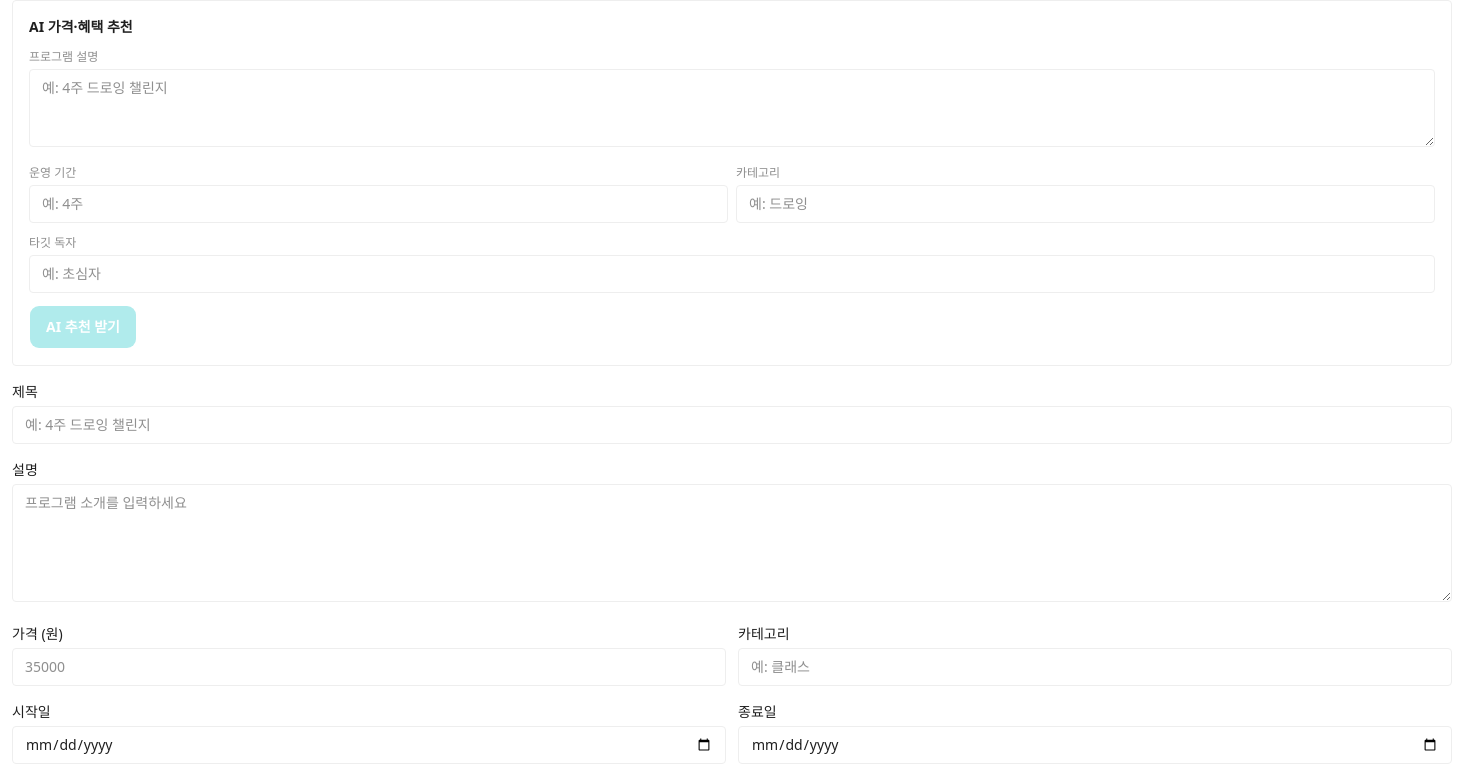
Test: NewProgramClient (SPEC-010 AC-002) › injects suggested price and description block on apply
The width and height of the screenshot is (1464, 781).
AI 추천 요청
In the text box labelled "프로그램 설명": (732, 108) top-left (29, 69), bottom-right (1435, 147), type "4주 드로잉 챌린지"
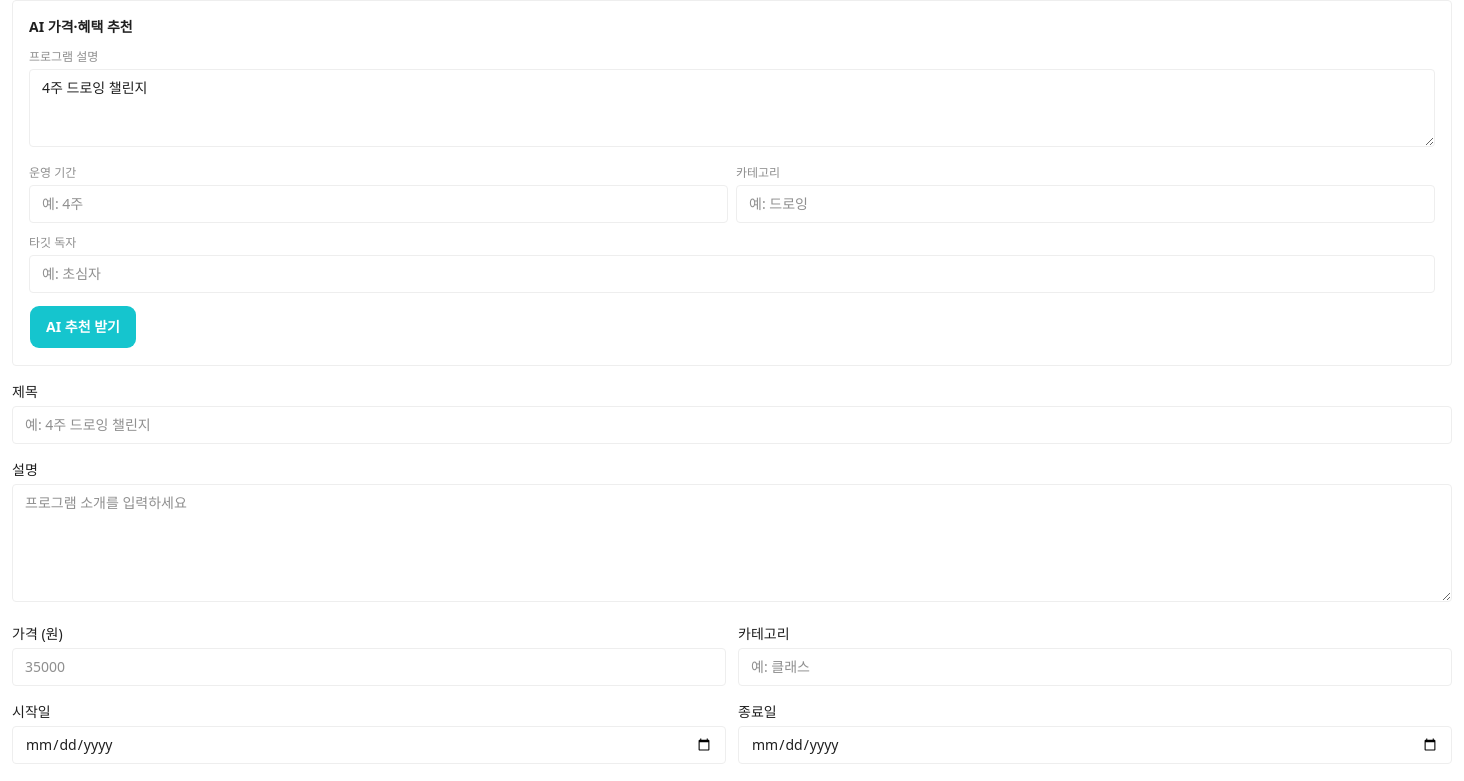
Click the button "AI 추천 받기": (83, 327) top-left (29, 305), bottom-right (137, 349)
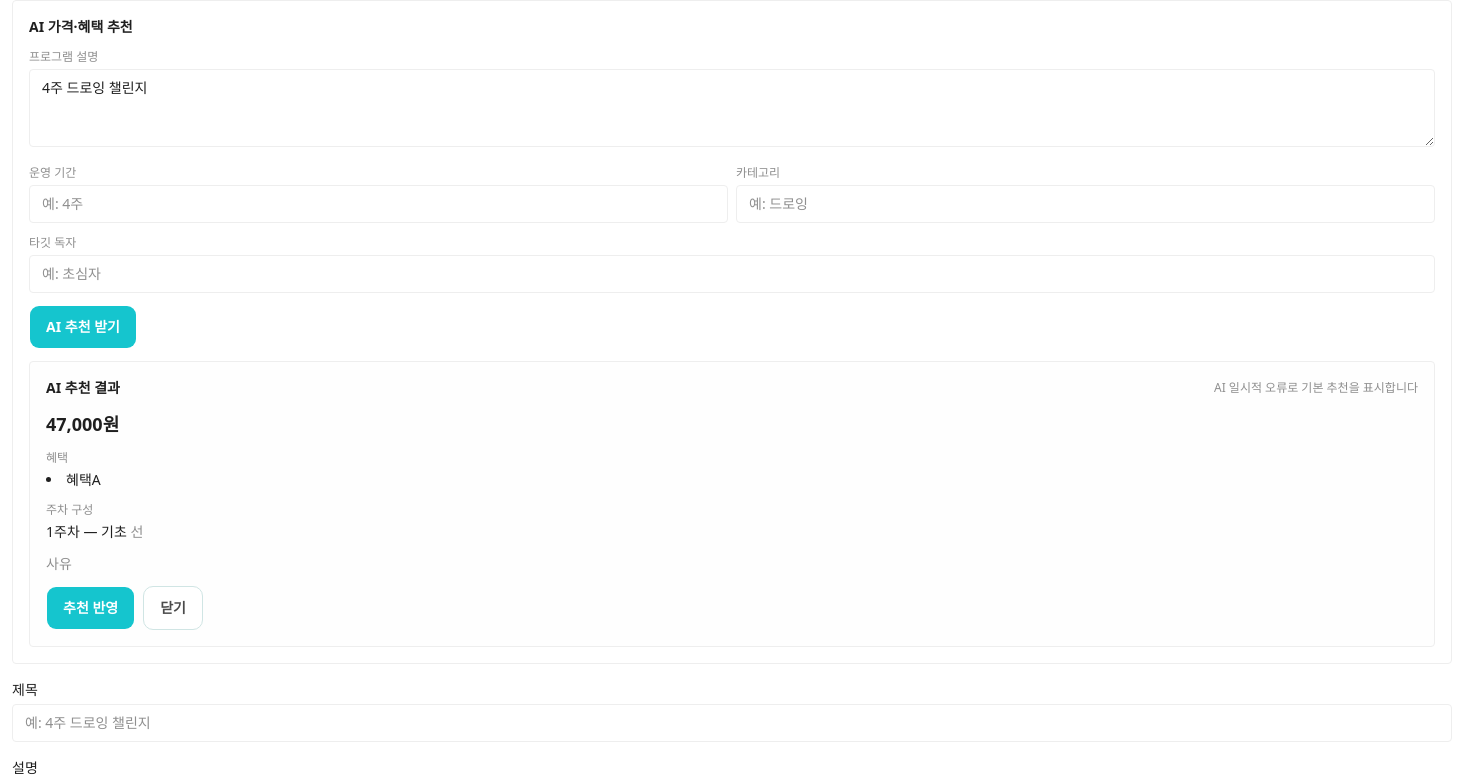
Expected: the text "47,000원" is shown, top-left (46, 412), bottom-right (119, 436)
추천 반영 → 폼에 주입
Click the button "추천 반영": (91, 608) top-left (46, 586), bottom-right (135, 630)
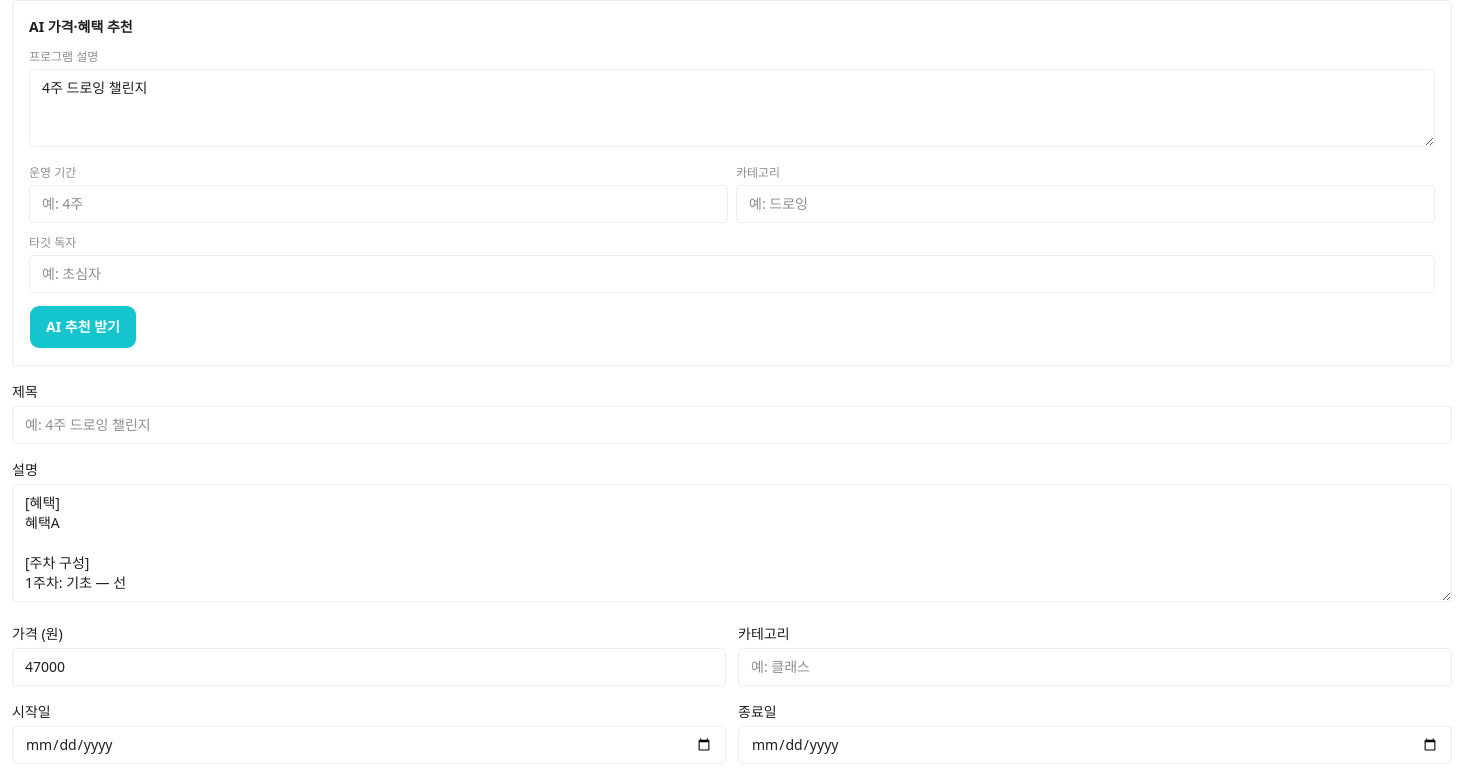
Expected: the number field labelled "가격 (원)" holds "47000", top-left (12, 648), bottom-right (726, 686)
